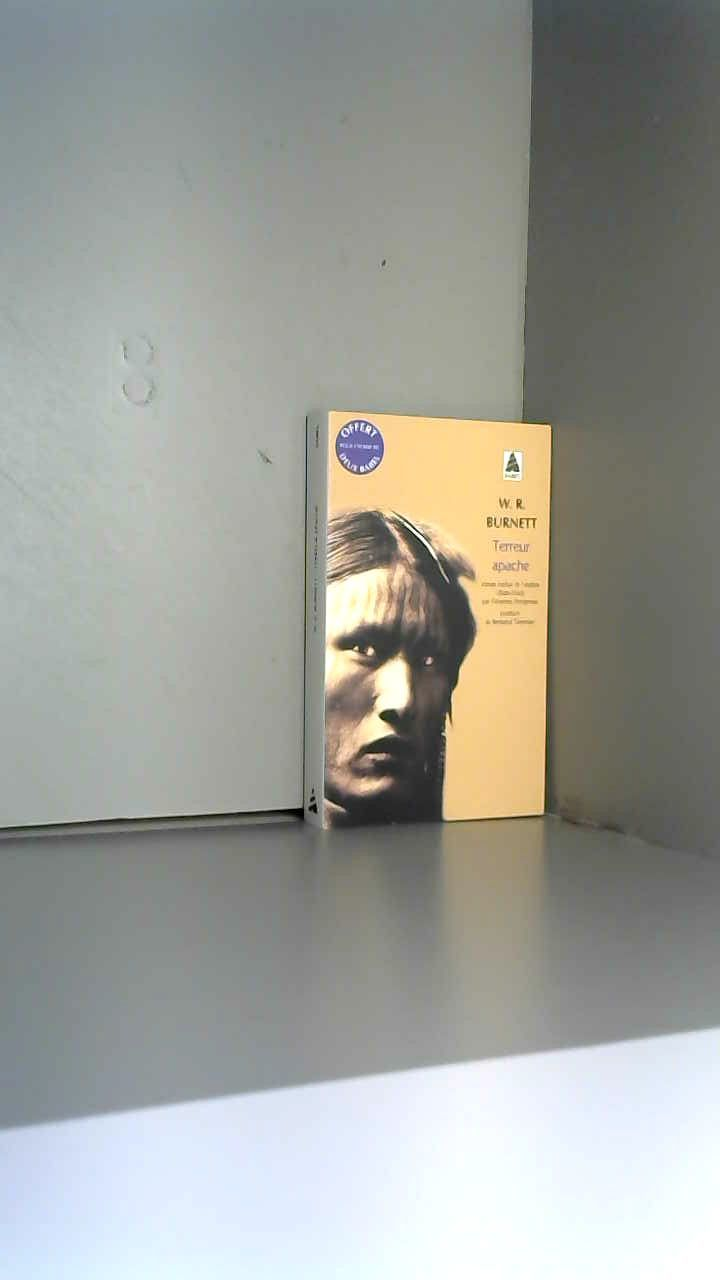book: (268, 379, 583, 862)
